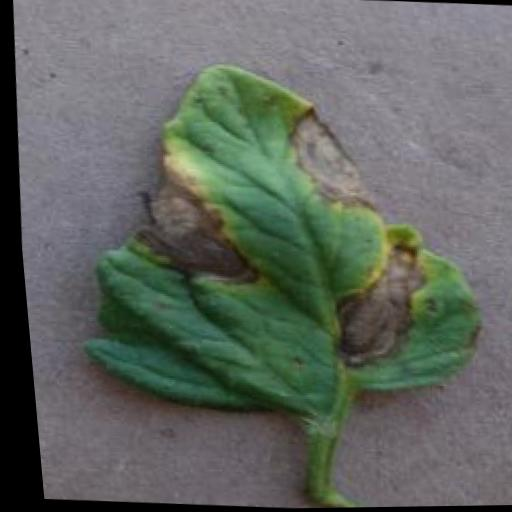Early Blight: (43, 49, 497, 433)
